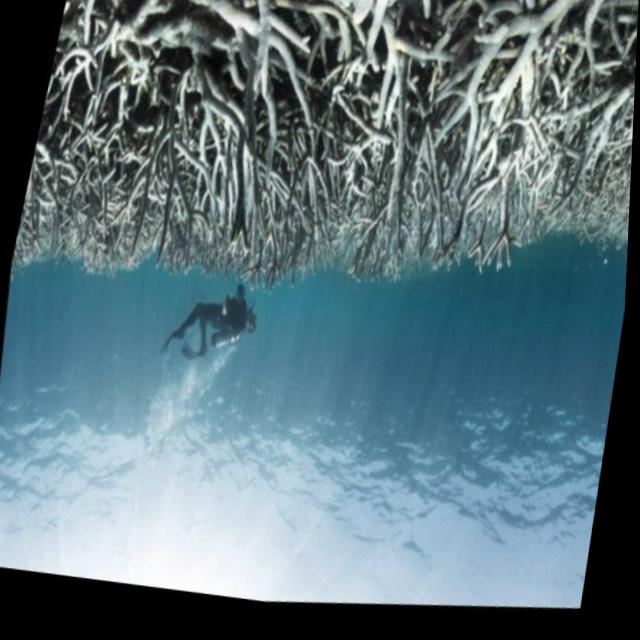Dead Coral: (1, 0, 320, 332)
